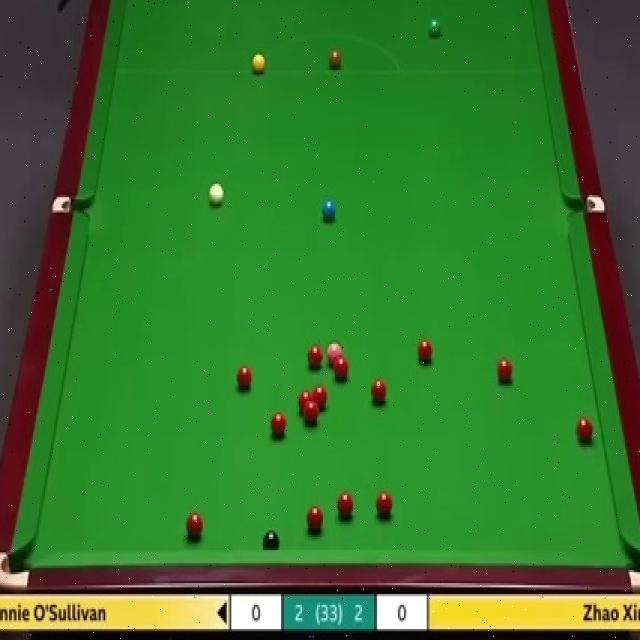black-ball: (262, 530, 280, 551)
blue-ball: (320, 195, 337, 223)
brown-ball: (329, 50, 341, 70)
green-ball: (426, 18, 442, 39)
pink-ball: (328, 342, 343, 367)
red-ball: (576, 414, 594, 446), (416, 337, 434, 368), (185, 512, 204, 540), (375, 489, 393, 518), (496, 358, 514, 385), (307, 505, 324, 533), (337, 492, 354, 520), (370, 378, 387, 406), (237, 367, 254, 394), (270, 412, 286, 438), (333, 356, 350, 380), (313, 386, 328, 412), (304, 403, 319, 425), (298, 390, 312, 412), (308, 348, 323, 368)
white-ball: (207, 179, 225, 210)
yellow-ball: (251, 52, 265, 74)
